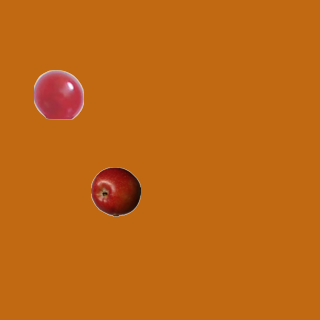Apple Braeburn: (90, 166, 140, 216)
Redcurrant: (33, 69, 83, 119)
